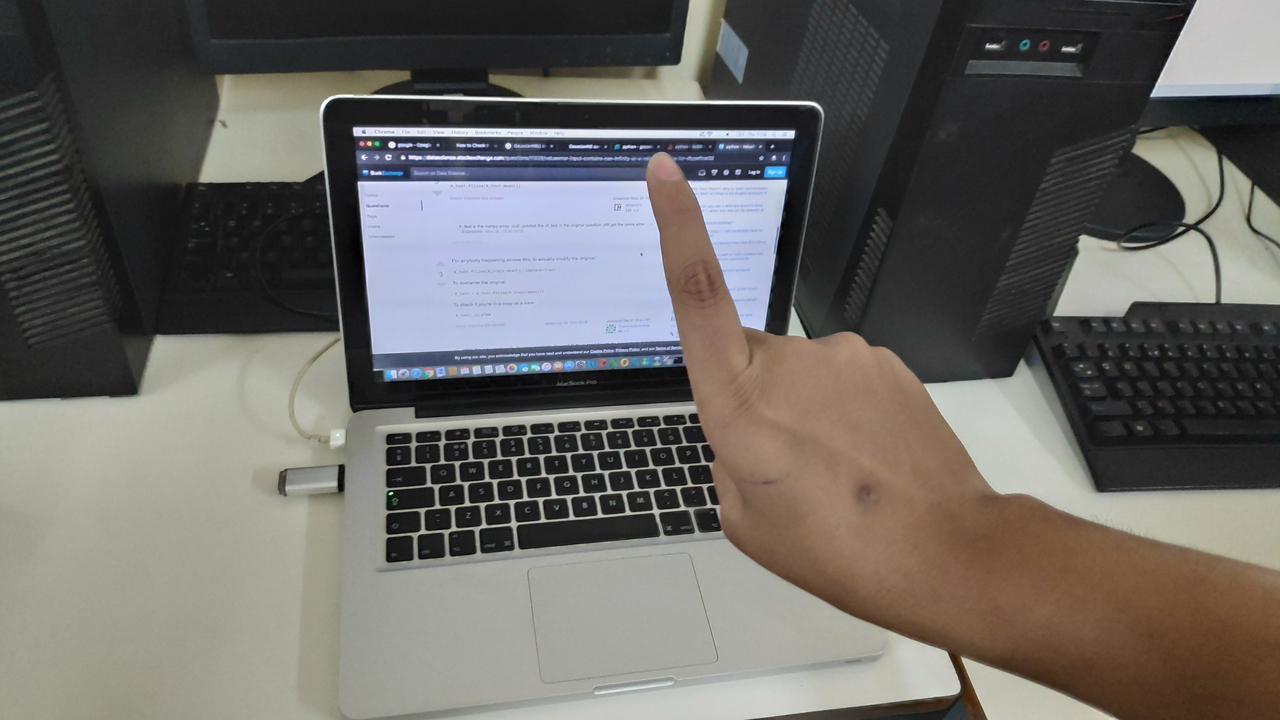fingertip: (636, 138, 694, 192)
